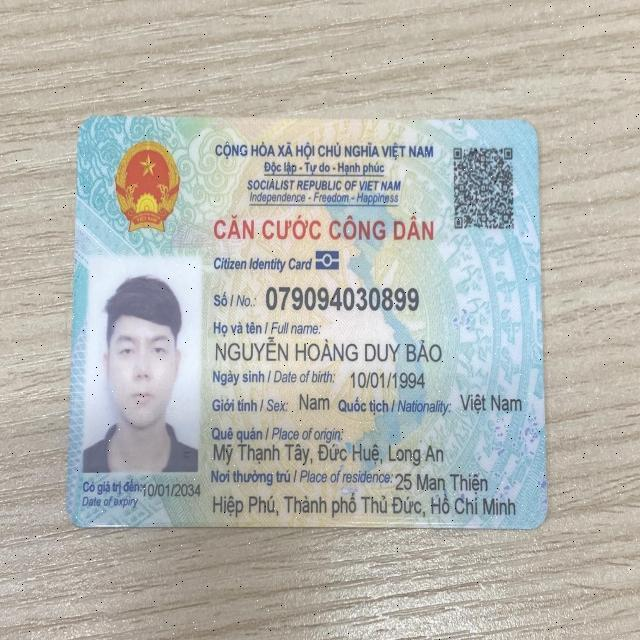current_place: (210, 487, 517, 521), (395, 466, 491, 494)
dob: (348, 363, 434, 395)
expire_date: (140, 482, 207, 500)
gender: (295, 385, 335, 416)
id: (261, 277, 430, 317)
name: (212, 337, 445, 367)
nationality: (453, 386, 521, 419)
origin_place: (208, 439, 445, 466)
